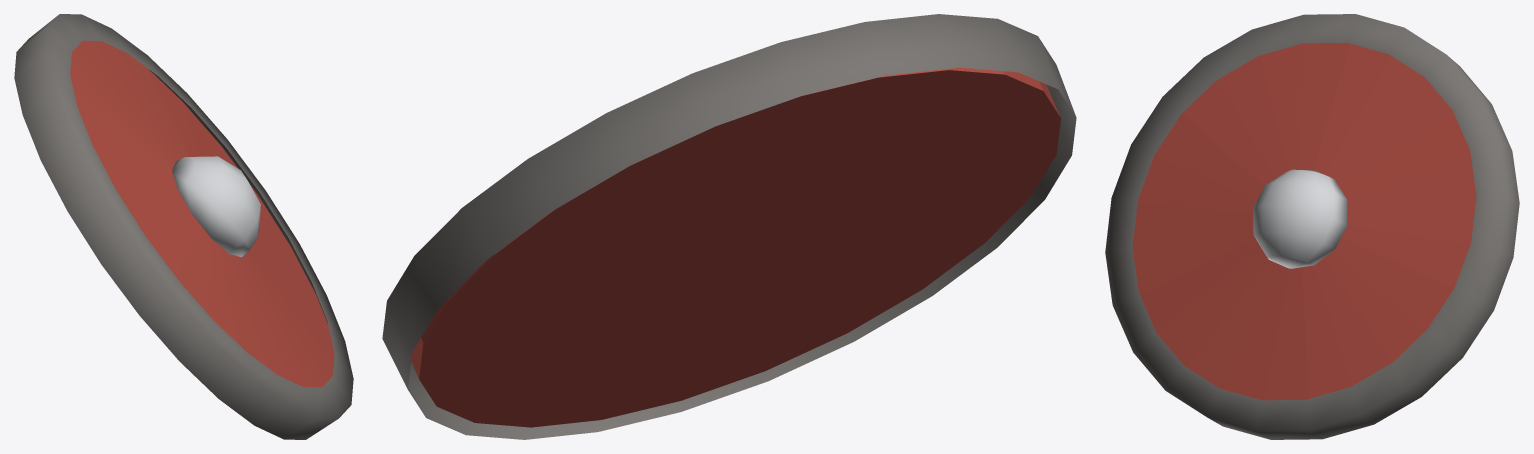
File: shield_round.glb
The picture shows the model from 3 angles, left to right: view 1: azimuth 30°, elevation 25°; view 2: azimuth 150°, elevation 25°; view 3: azimuth 270°, elevation 25°; orthographic projection. The views are drawn at different scales.
Visible parts, largest first — view 1: shield_round; view 2: shield_round; view 3: shield_round.
Boxes of the visible parts, bbox=[...] form: shield_round: bbox=[14, 14, 353, 439]; shield_round: bbox=[382, 14, 1076, 439]; shield_round: bbox=[1105, 14, 1519, 439].
Bounding box in the file's own units: 0.1997 × 0.2073 × 0.2381.
